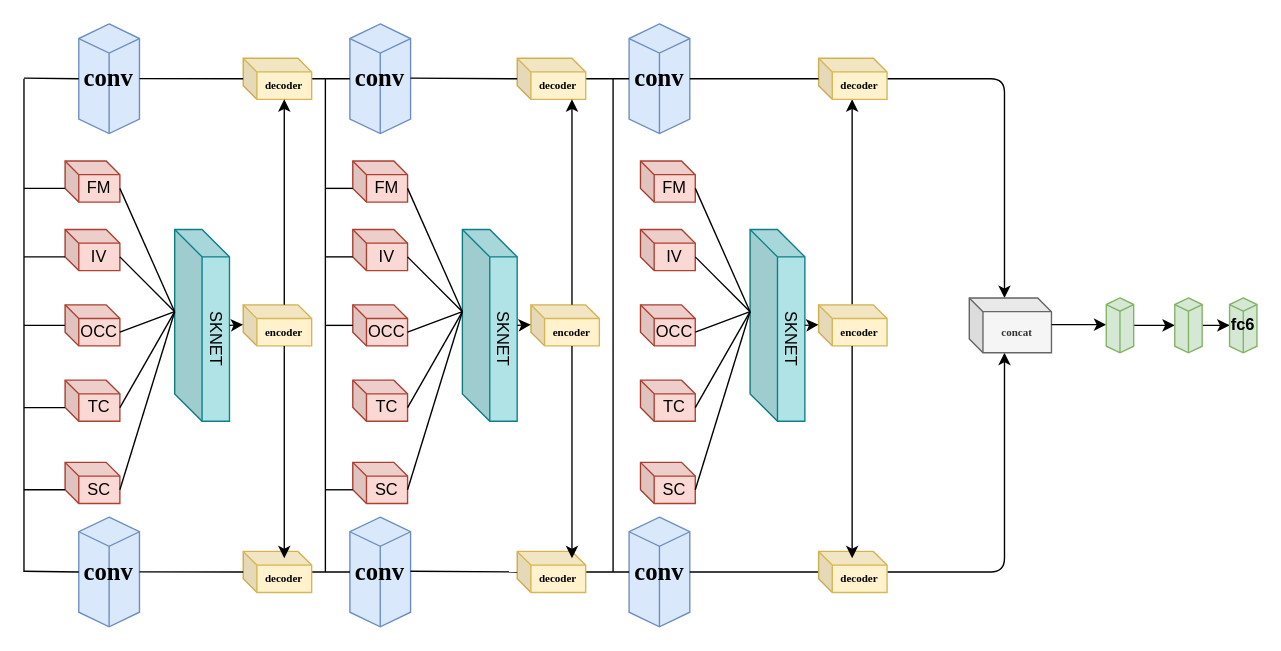
This 1281x651 diagram has some shape labels left out. The centre of each missing label's shape, as x and y in pixels:
"fc4" goes at point 1119,325.
"fc5" goes at point 1187,325.
